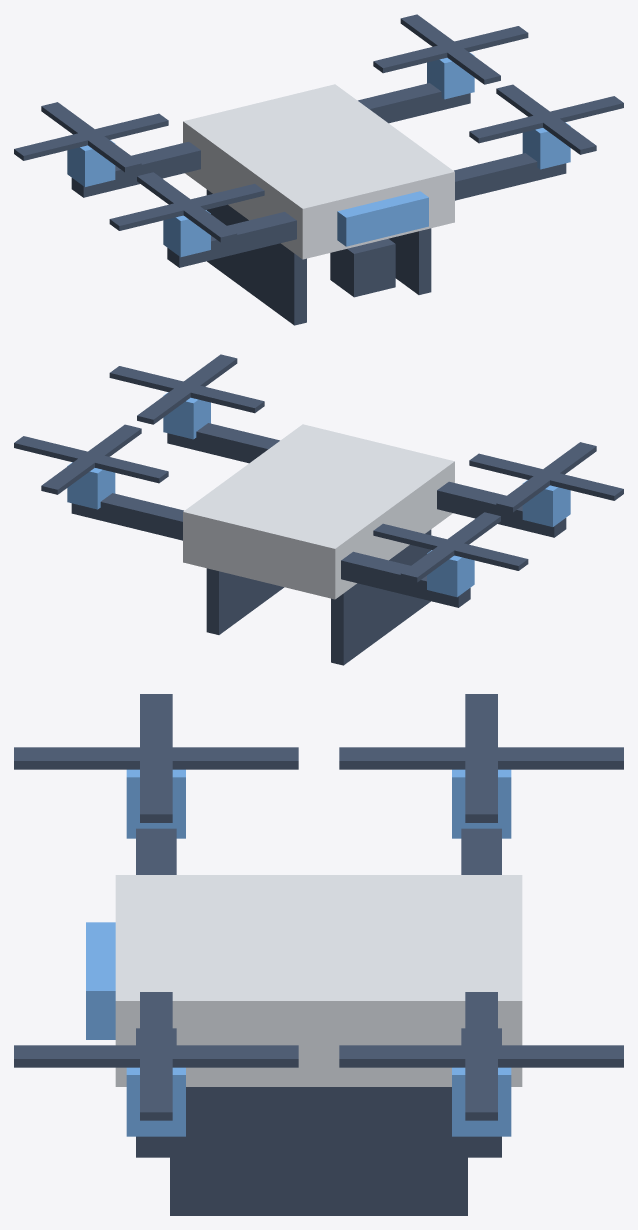
The model's file is drone.gltf.
3 renders of one model, top to bottom at view 1: azimuth 30°, elevation 25°; view 2: azimuth 150°, elevation 25°; view 3: azimuth 270°, elevation 25°, orthographic. The views are drawn at different scales.
Parts seen in each view (by area): view 1: body, blade (×8), arm (×4), landingLeg (×2), motor (×4), nose, camera; view 2: body, blade (×8), arm (×4), landingLeg (×2), motor (×4); view 3: body, blade (×8), landingLeg, motor (×4), arm (×4), nose.
Part boxes in pixels (box(x1,y1,x2,y2)): body: box(183, 84, 454, 259); blade (×8): box(14, 14, 623, 242); arm (×4): box(71, 83, 566, 267); landingLeg (×2): box(206, 189, 431, 325); motor (×4): box(67, 52, 570, 257); nose: box(337, 191, 428, 246); camera: box(330, 238, 395, 297); body: box(183, 424, 454, 599); blade (×8): box(14, 354, 623, 582); arm (×4): box(71, 423, 566, 607); landingLeg (×2): box(206, 529, 431, 665); motor (×4): box(67, 392, 570, 597); body: box(115, 875, 522, 1086); blade (×8): box(14, 694, 623, 1120); landingLeg: box(170, 1087, 467, 1215); motor (×4): box(126, 769, 511, 1136); arm (×4): box(136, 828, 501, 1157); nose: box(86, 922, 115, 1039).
Bounding box in the file's own units: 3.65 × 1.04 × 2.25.
